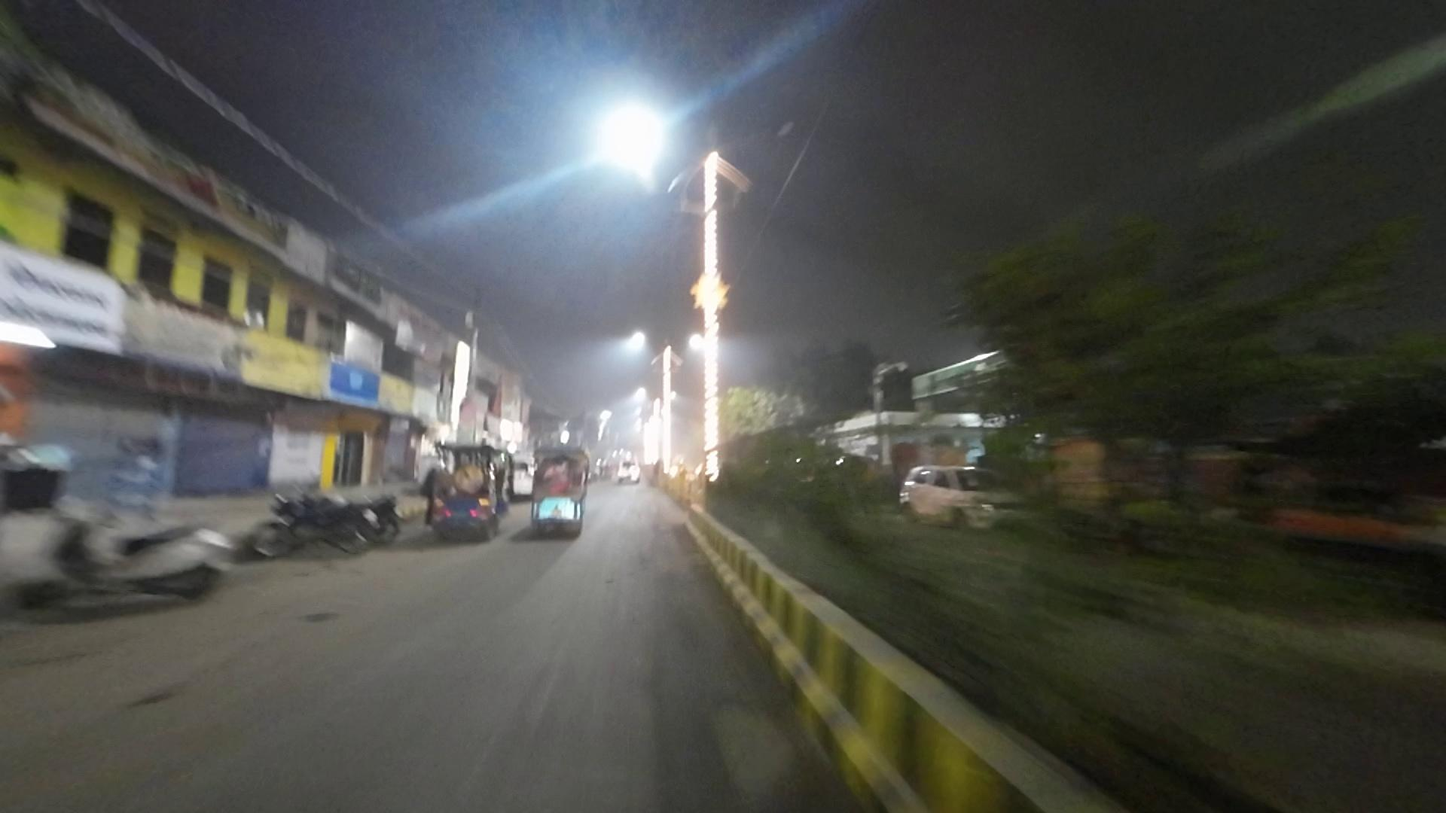streetlight: (729, 114, 796, 148)
